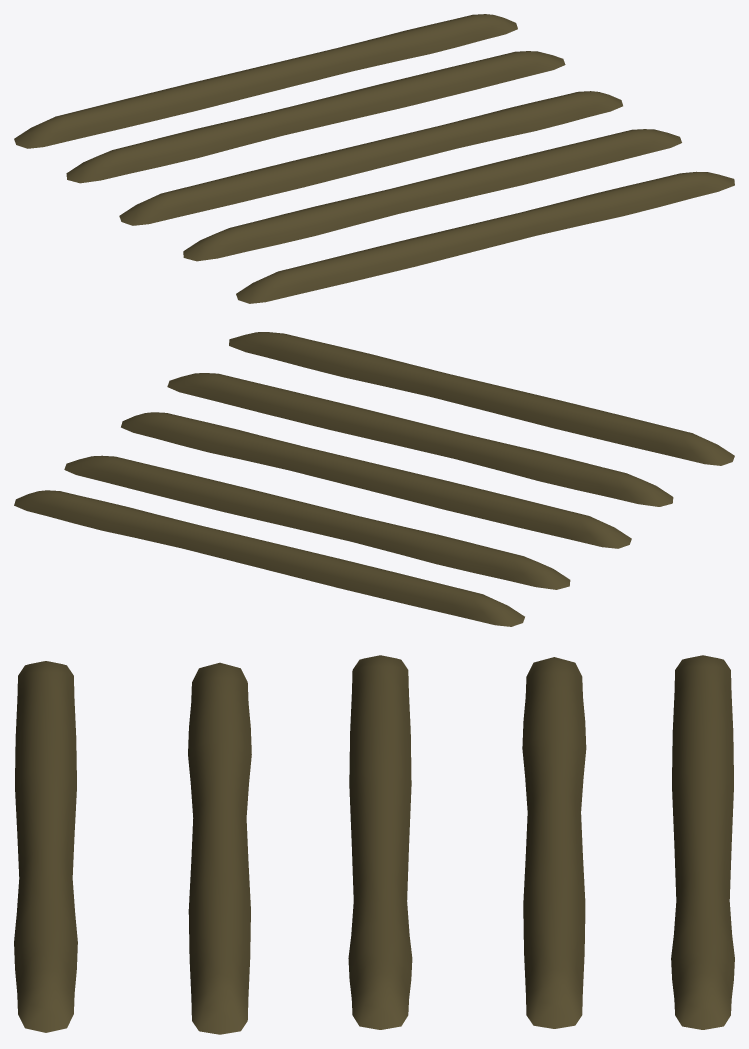
Rendered from quaternius-real-time-strategy-farm-dirt-level-1.glb.
3 renders of one model, top to bottom at view 1: azimuth 30°, elevation 25°; view 2: azimuth 150°, elevation 25°; view 3: azimuth 270°, elevation 25°, orthographic. The views are drawn at different scales.
Parts seen in each view (by area): view 1: Farm_Dirt_Level1; view 2: Farm_Dirt_Level1; view 3: Farm_Dirt_Level1.
Part boxes in pixels (left/top/right/bottom): Farm_Dirt_Level1: left=14, top=14, right=734, bottom=303; Farm_Dirt_Level1: left=14, top=332, right=734, bottom=626; Farm_Dirt_Level1: left=14, top=655, right=734, bottom=1034.
Bounding box in the file's own units: 1.79 × 0.0564 × 1.44.
